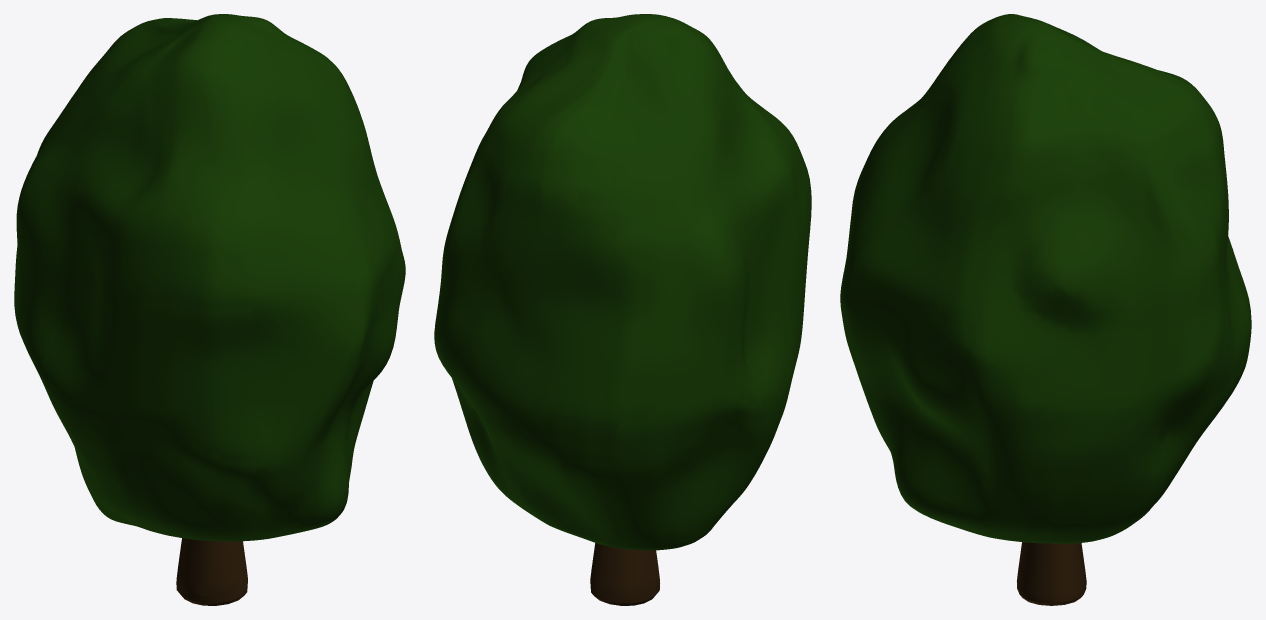
The model's file is buisson.gltf.
3 renders of one model, left to right at view 1: azimuth 30°, elevation 25°; view 2: azimuth 150°, elevation 25°; view 3: azimuth 270°, elevation 25°, orthographic. The views are drawn at different scales.
Visible parts, largest first — view 1: Sphere; view 2: Sphere; view 3: Sphere.
Boxes of the visible parts, x1=… form: Sphere: x1=14, y1=14, x2=405, y2=605; Sphere: x1=434, y1=14, x2=811, y2=605; Sphere: x1=840, y1=14, x2=1251, y2=605.
Bounding box in the file's own units: 1.91 × 3.44 × 2.24.
